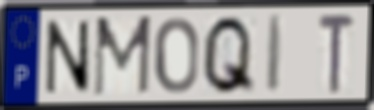I: (264, 13, 286, 96)
M: (91, 13, 154, 100)
N: (44, 18, 93, 96)
O: (152, 15, 200, 96)
Q: (199, 13, 257, 98)
T: (317, 12, 358, 96)
